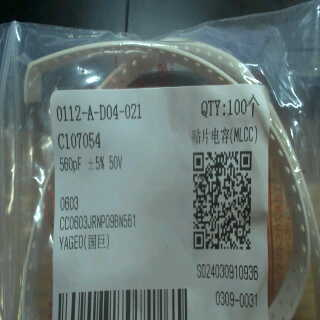560pF: (58, 155, 84, 175)
